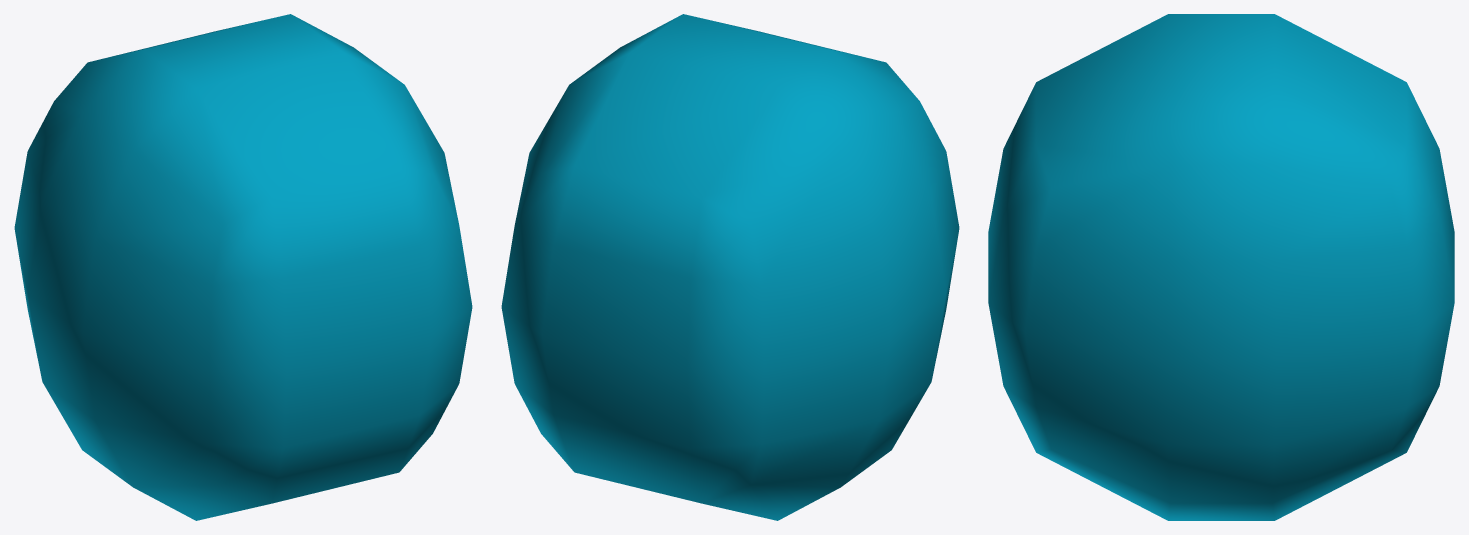
Rendered from orb blue.fbx.
The picture shows the model from 3 angles, left to right: view 1: azimuth 30°, elevation 25°; view 2: azimuth 150°, elevation 25°; view 3: azimuth 270°, elevation 25°; orthographic projection.
Parts seen in each view (by area): view 1: pCube57; view 2: pCube57; view 3: pCube57.
Part boxes in pixels (x1=…): pCube57: x1=14, y1=14, x2=472, y2=520; pCube57: x1=501, y1=14, x2=959, y2=520; pCube57: x1=988, y1=14, x2=1454, y2=520.
Bounding box in the file's own units: 3.59 × 3.94 × 3.83.
